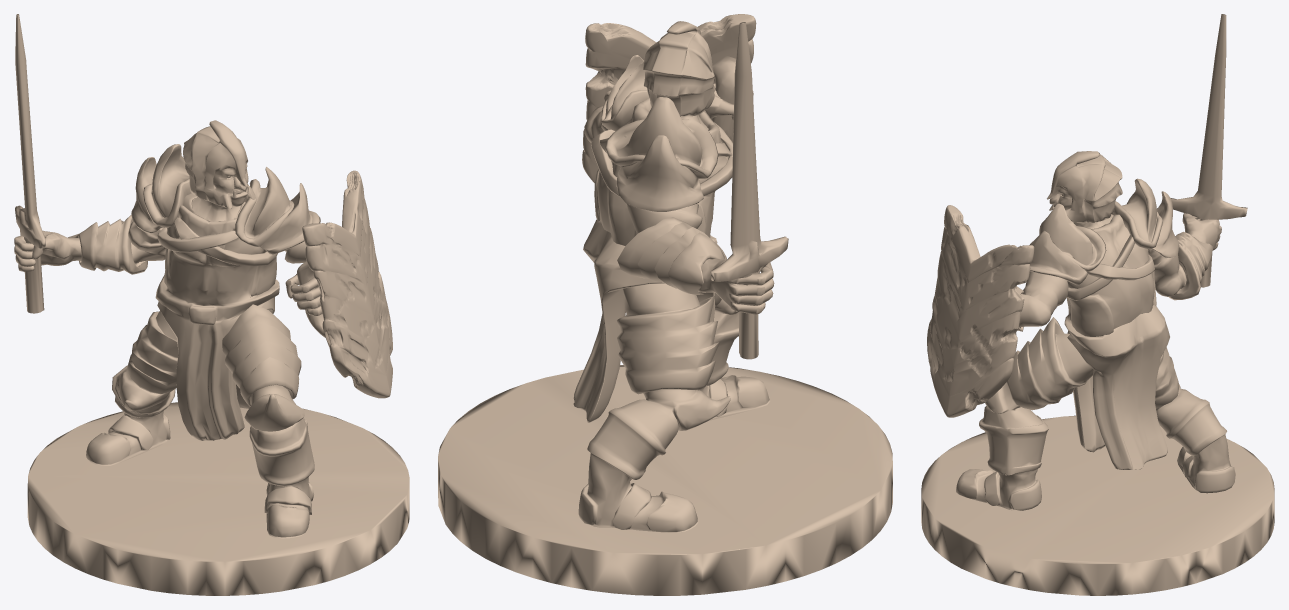
Rendered from hobgoblin.glb.
The picture shows the model from 3 angles, left to right: view 1: azimuth 30°, elevation 25°; view 2: azimuth 150°, elevation 25°; view 3: azimuth 270°, elevation 25°; orthographic projection. The views are drawn at different scales.
Parts seen in each view (by area): view 1: hobgoblin; view 2: hobgoblin; view 3: hobgoblin.
Boxes of the visible parts, box(x1,y1,x2,y2) form: hobgoblin: box(14, 14, 409, 595); hobgoblin: box(438, 14, 892, 595); hobgoblin: box(921, 14, 1274, 595).
Size of the model in its own units: 25.28 by 35.25 by 25.28.
